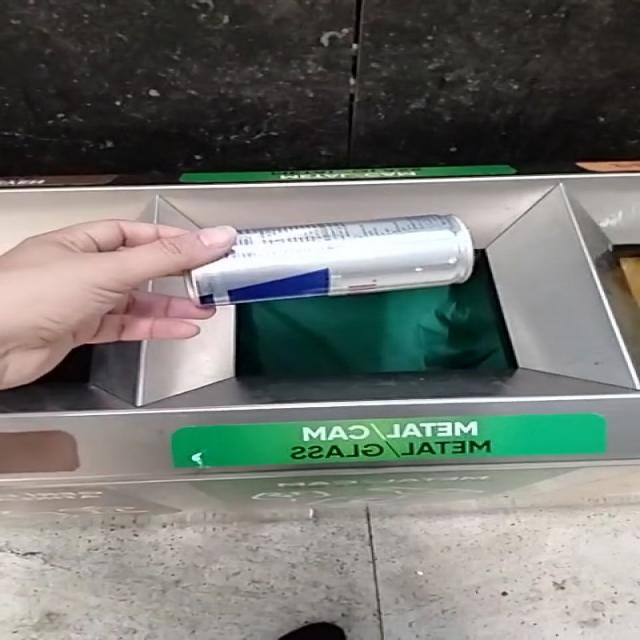bin: (0, 173, 640, 516)
metal: (189, 215, 475, 305)
